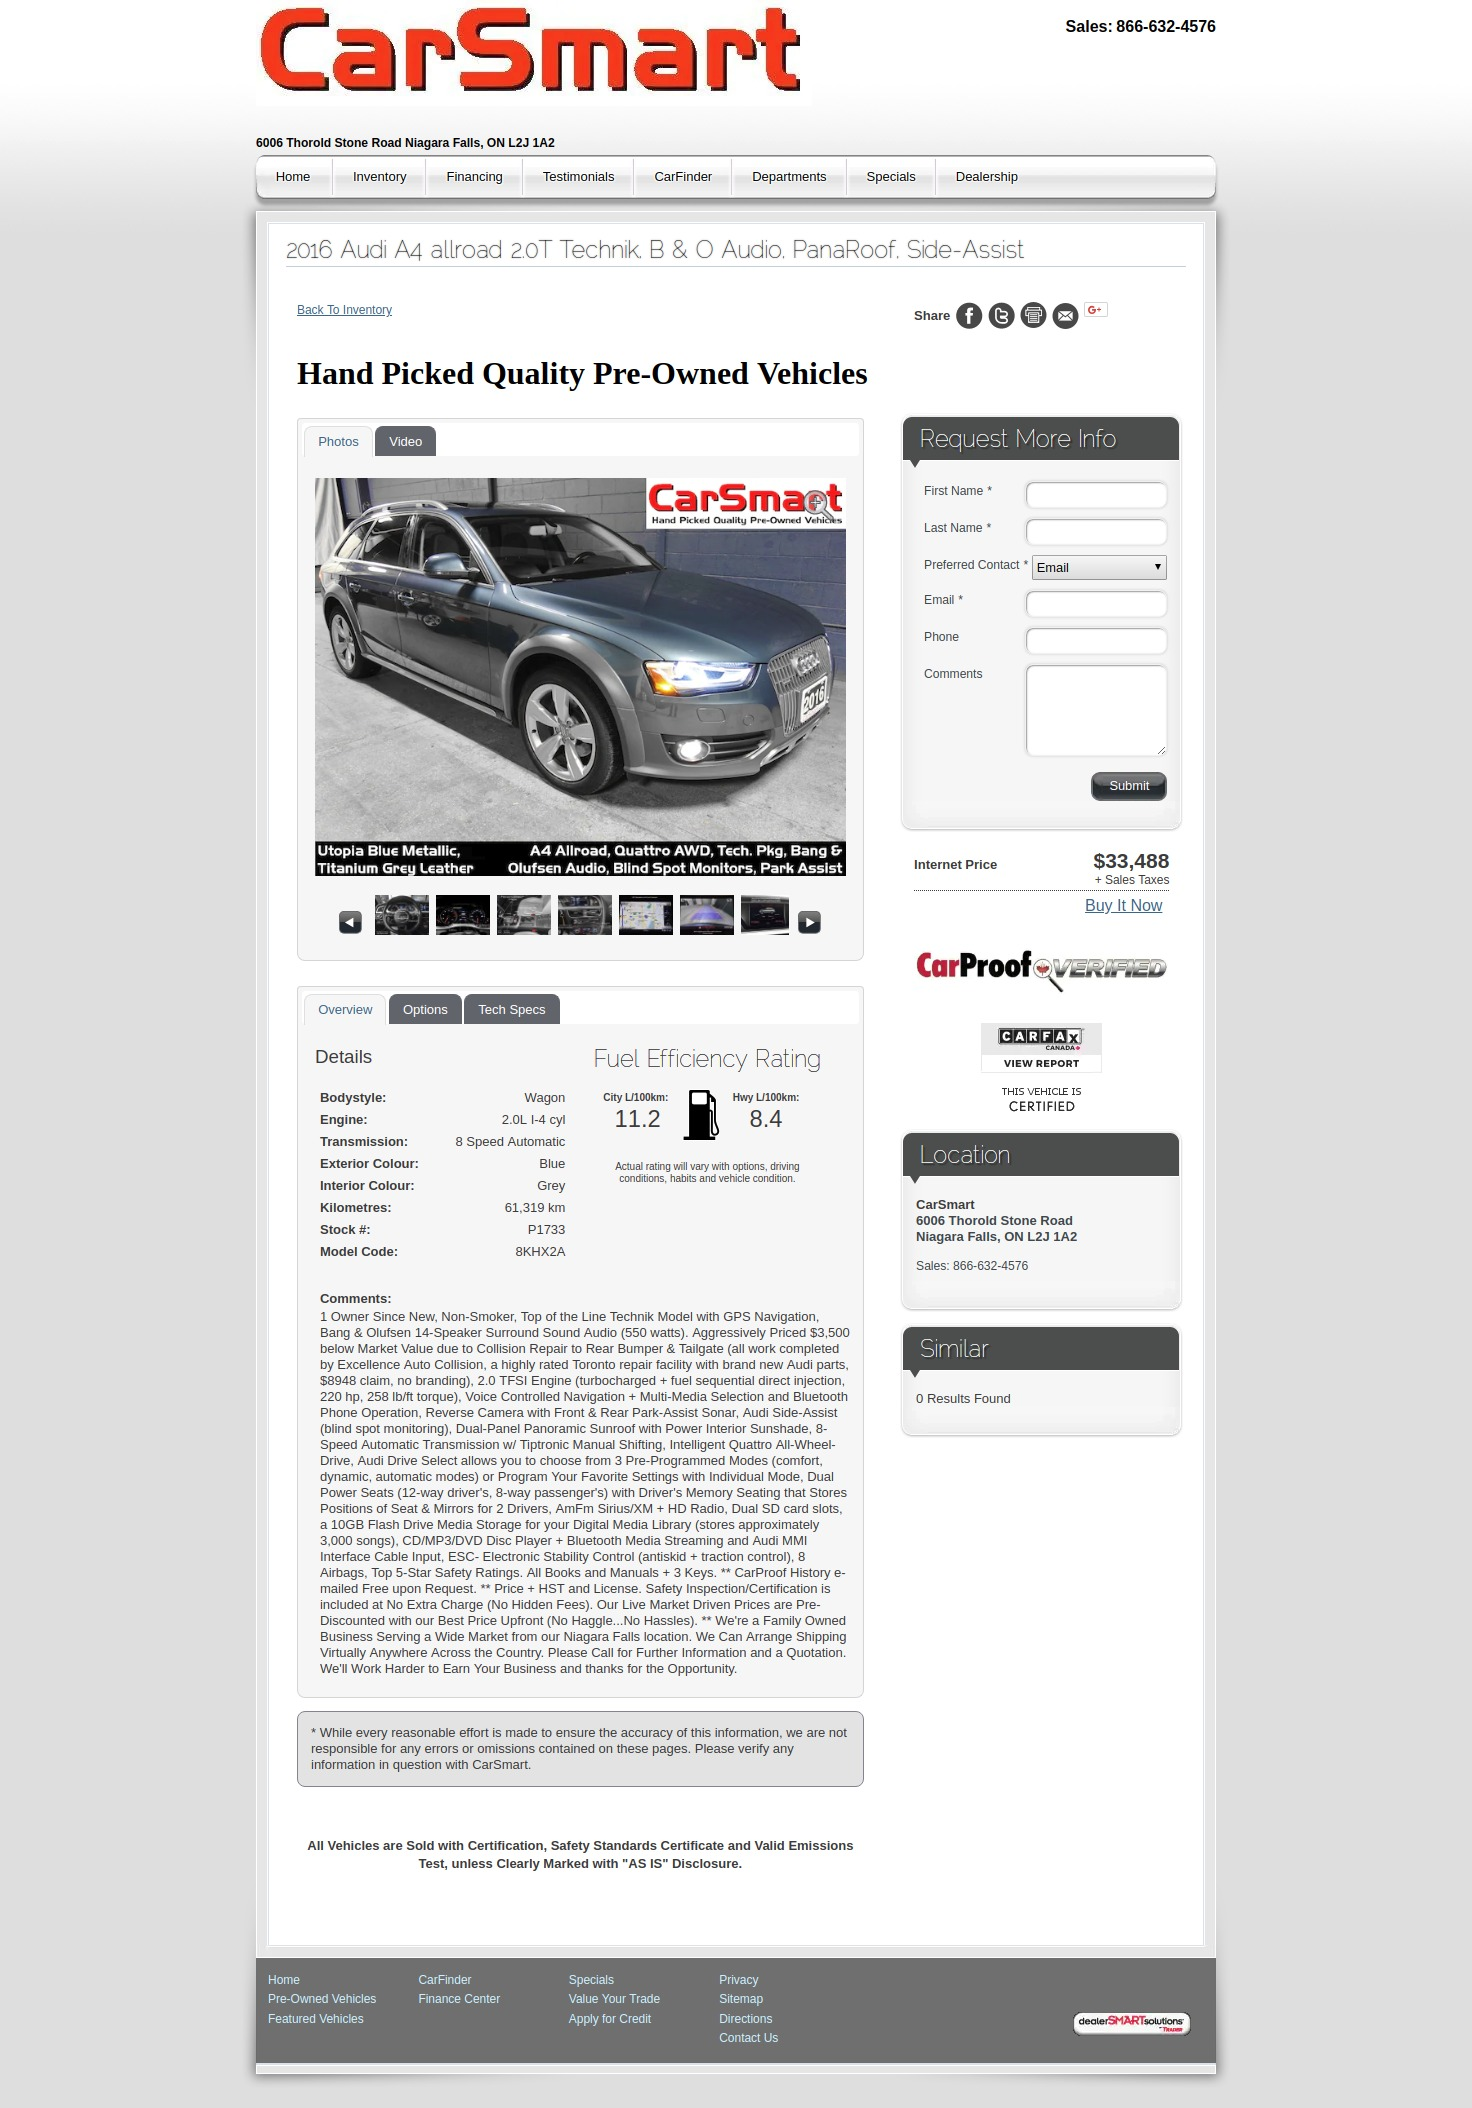car: (798, 911, 822, 934)
